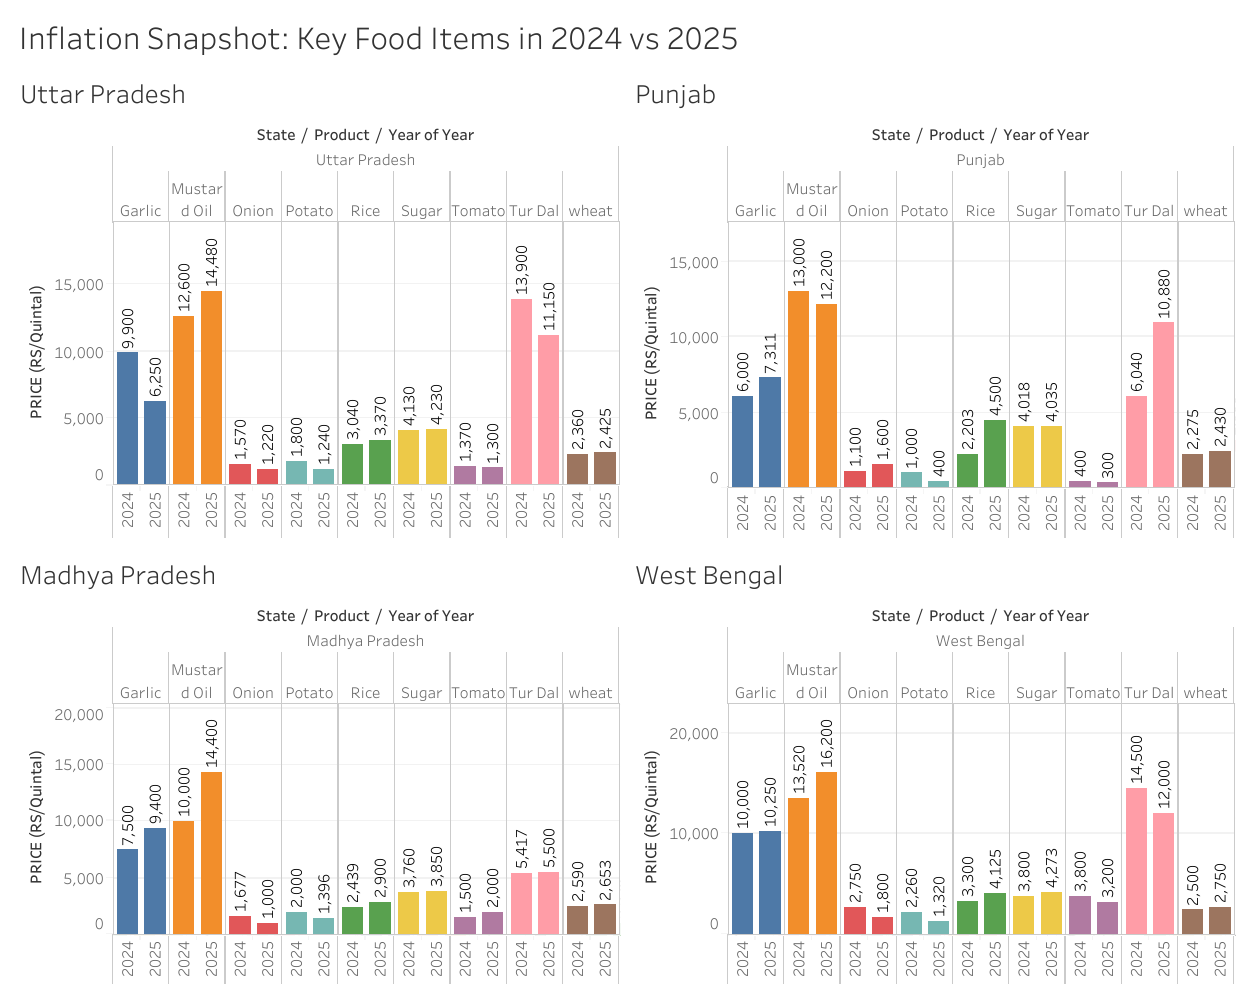

This screenshot's page, from the dashboard's own definition file:
{"tool":"tableau","page":{"name":"Dashboard 1","canvas":[1000,800],"ordinal":0},"visuals":[{"type":"title","box":[8,8,984,42]},{"type":"worksheet","title":"UP","mark":"Bar","rows":["PRICE (RS/Quintal)"],"cols":["STATE","PRODUCT ","YEAR"],"box":[8,50,492,385]},{"type":"worksheet","title":"Punjab","mark":"Bar","rows":["PRICE (RS/Quintal)"],"cols":["STATE","PRODUCT ","YEAR"],"box":[500,50,492,385]},{"type":"worksheet","title":"MP","mark":"Bar","rows":["PRICE (RS/Quintal)"],"cols":["STATE","PRODUCT ","YEAR"],"box":[8,435,492,357]},{"type":"worksheet","title":"WB","mark":"Bar","rows":["PRICE (RS/Quintal)"],"cols":["STATE","PRODUCT ","YEAR"],"box":[500,435,492,357]}]}

Visuals, with their boxes in screenshot pixels (x1, y1, x2, y2), scaled from the page's 1000x800 canvas onto the 1249x999 screenshot:
title: {"x1": 10, "y1": 10, "x2": 1239, "y2": 62}
"UP" worksheet (Bar marks): {"x1": 10, "y1": 62, "x2": 624, "y2": 543}
"Punjab" worksheet (Bar marks): {"x1": 624, "y1": 62, "x2": 1239, "y2": 543}
"MP" worksheet (Bar marks): {"x1": 10, "y1": 543, "x2": 624, "y2": 989}
"WB" worksheet (Bar marks): {"x1": 624, "y1": 543, "x2": 1239, "y2": 989}
